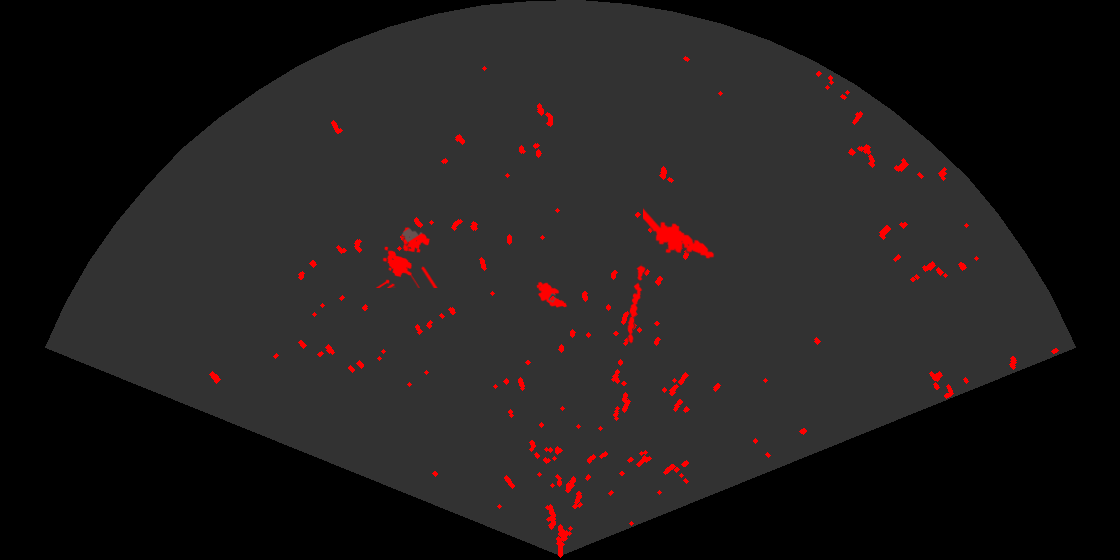AUV: (535, 280, 569, 309)
cage: (374, 226, 439, 288)
chain: (626, 262, 647, 344)
frogman: (643, 206, 716, 260)
